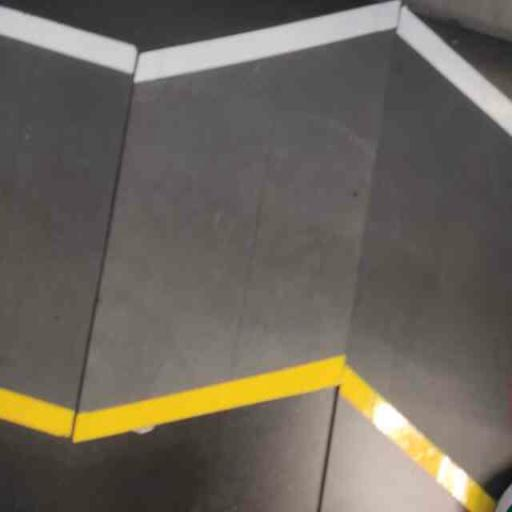crossleft: (73, 0, 400, 445)
